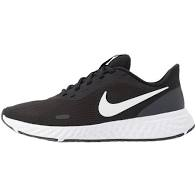nike: (94, 84, 171, 119)
